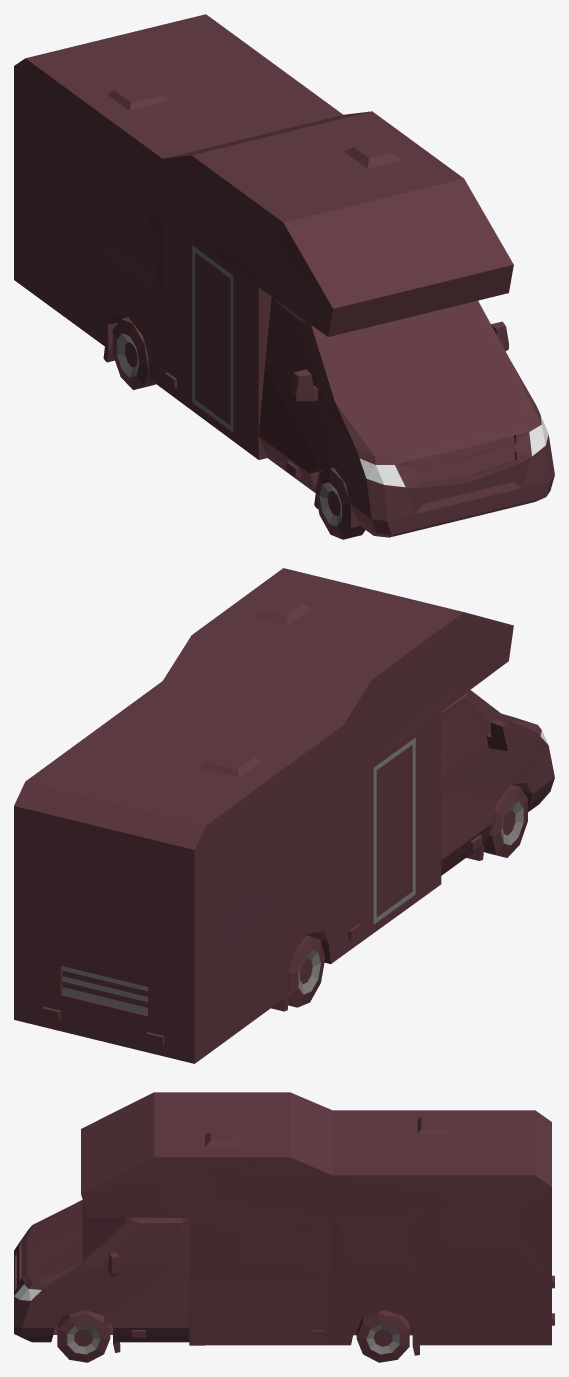
File: car-van-camping.fbx
The picture shows the model from 3 angles, top to bottom: view 1: azimuth 30°, elevation 25°; view 2: azimuth 150°, elevation 25°; view 3: azimuth 270°, elevation 25°; orthographic projection. The views are drawn at different scales.
Parts seen in each view (by area): view 1: car-van-camping-base, car-van-camping-wheel_FR, car-van-camping-wheel_BR; view 2: car-van-camping-base, car-van-camping-wheel_FR, car-van-camping-wheel_BR; view 3: car-van-camping-base, car-van-camping-wheel_FL, car-van-camping-wheel_BL.
Part boxes in pixels (<box>): car-van-camping-base: <box>14,14,554,537</box>; car-van-camping-wheel_FR: <box>315,467,365,539</box>; car-van-camping-wheel_BR: <box>112,317,155,389</box>; car-van-camping-base: <box>14,568,554,1063</box>; car-van-camping-wheel_FR: <box>484,784,527,857</box>; car-van-camping-wheel_BR: <box>288,935,325,1007</box>; car-van-camping-base: <box>14,1092,554,1355</box>; car-van-camping-wheel_FL: <box>57,1310,110,1362</box>; car-van-camping-wheel_BL: <box>356,1310,409,1362</box>.
Bounding box in the file's own units: 2.65 × 3.36 × 7.81.
